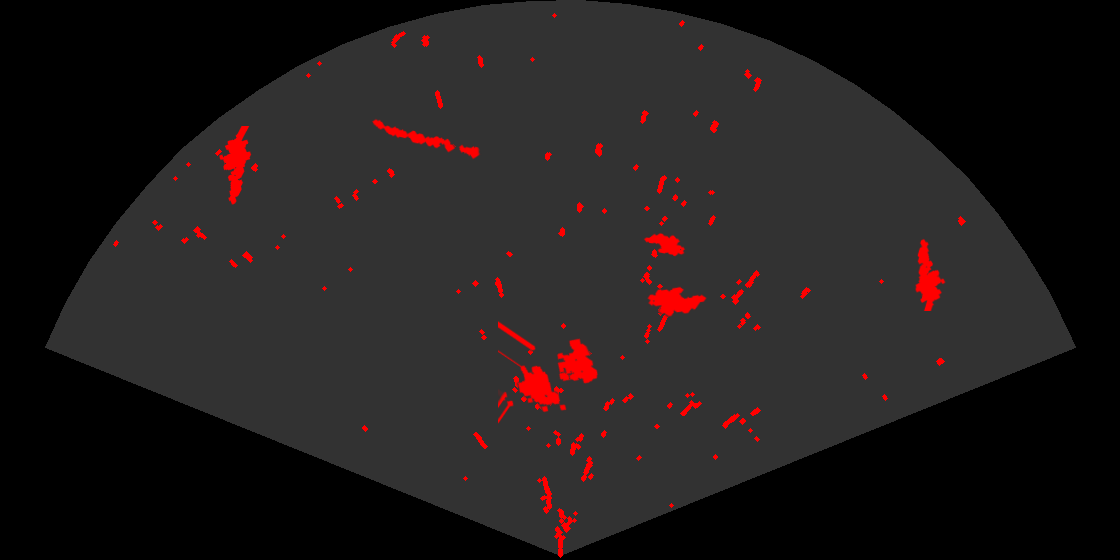AUV: (646, 285, 708, 318), (642, 231, 687, 258)
cage: (498, 319, 600, 425)
chain: (371, 117, 482, 161)
frogman: (218, 126, 253, 206), (914, 237, 947, 311)
